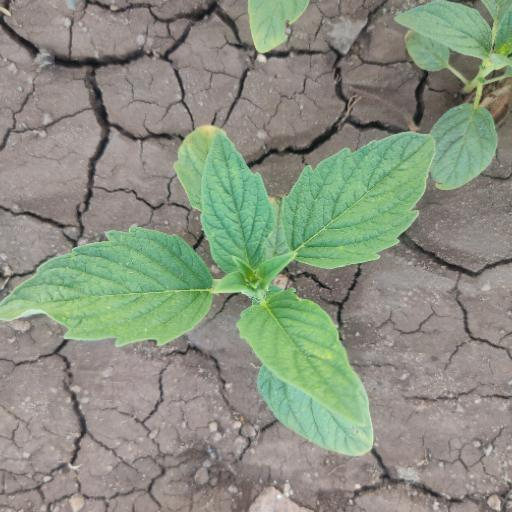crop: (2, 111, 441, 465)
